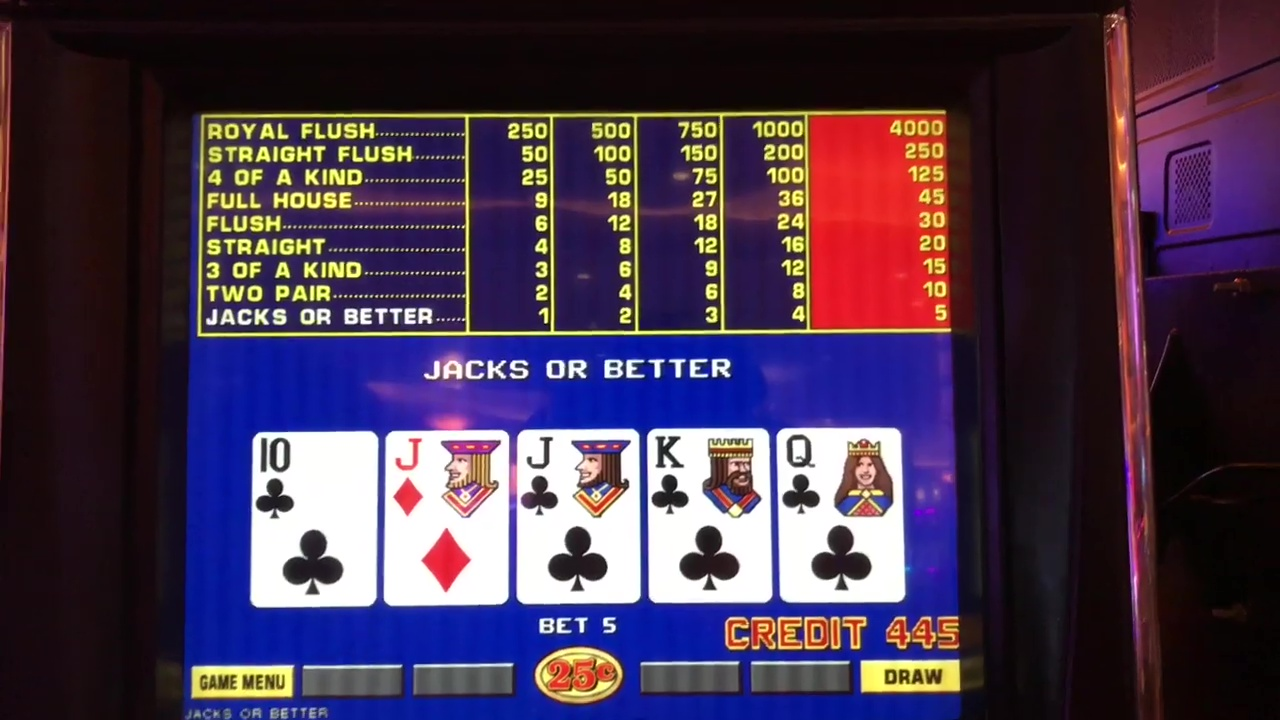CJ: (518, 430, 637, 603)
CK: (652, 431, 763, 603)
CQ: (781, 426, 900, 601)
CT: (256, 433, 375, 605)
DJ: (387, 434, 505, 603)
